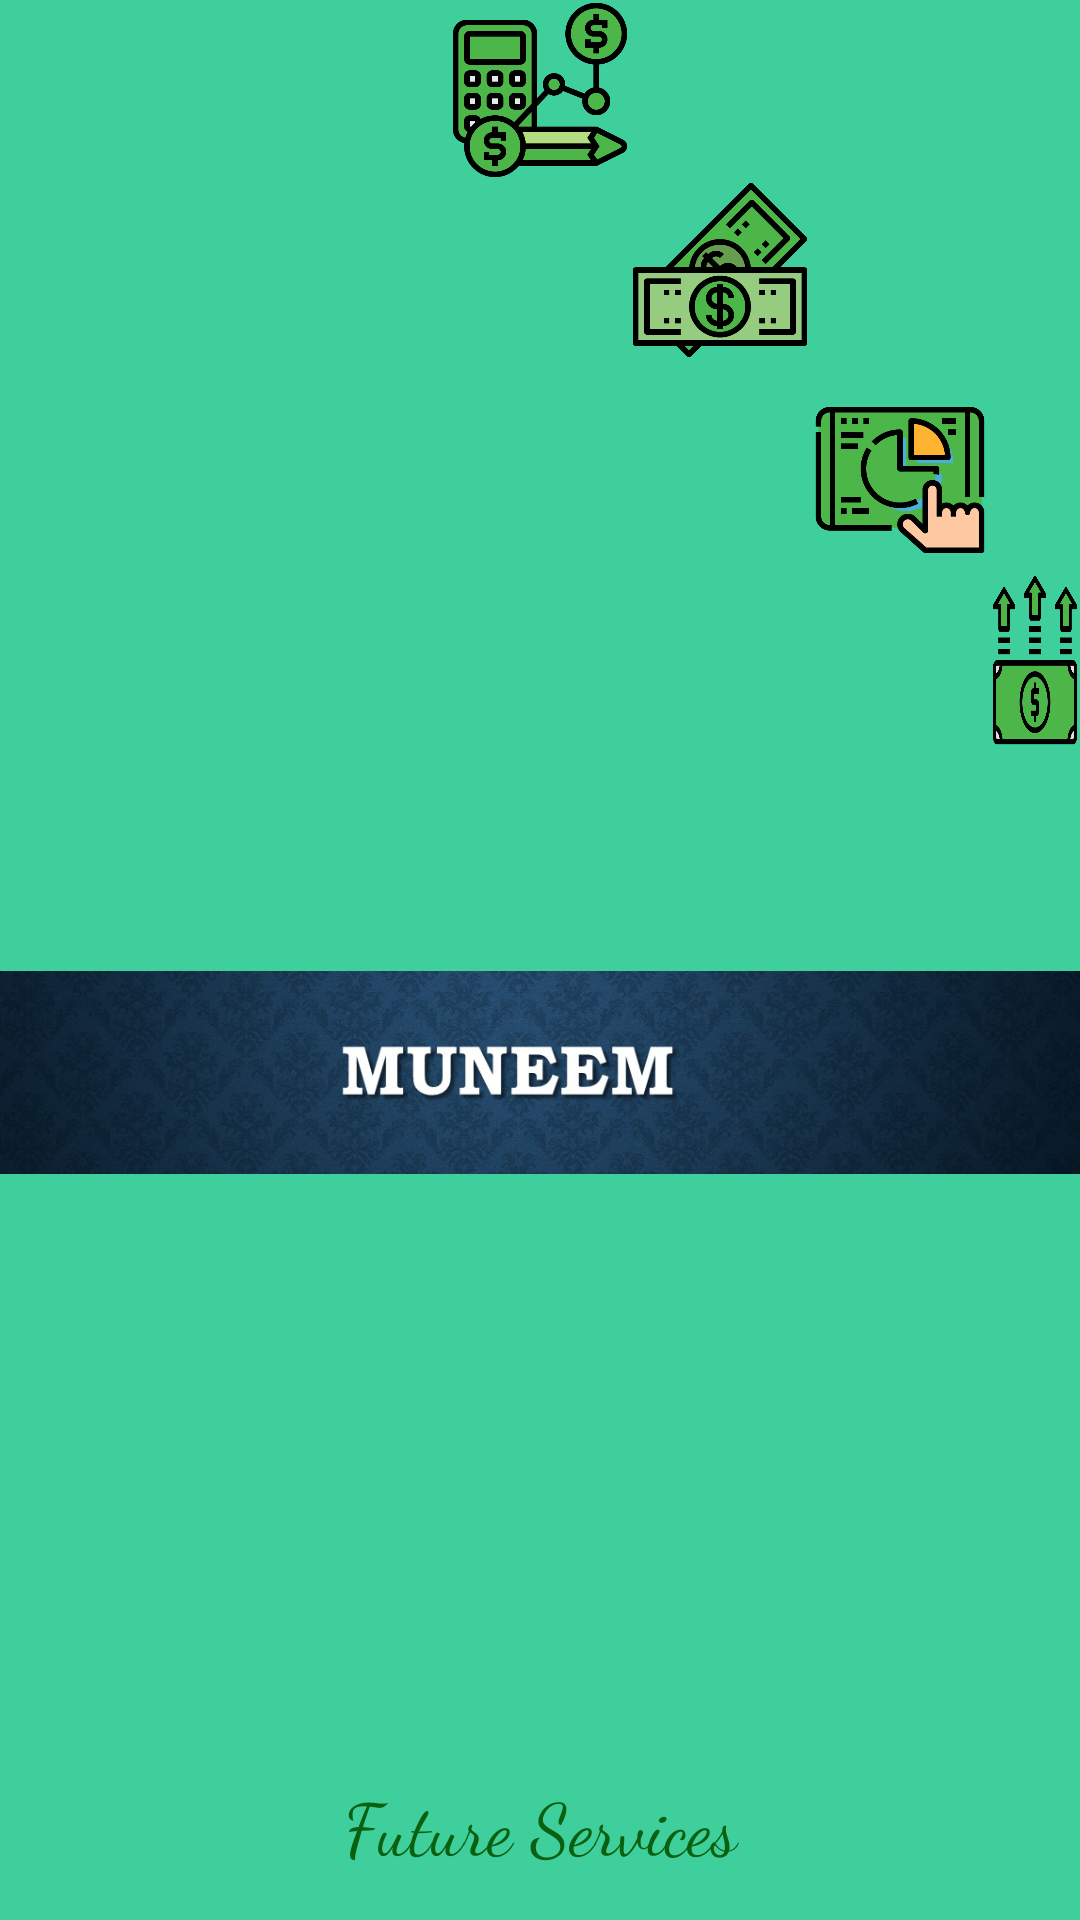

Named icons in this screenshot (1080px×1920px) and their centers, [x,y]:
accounting: [540,90]
money: [720,270]
piechart: [900,480]
rich: [1035,660]
